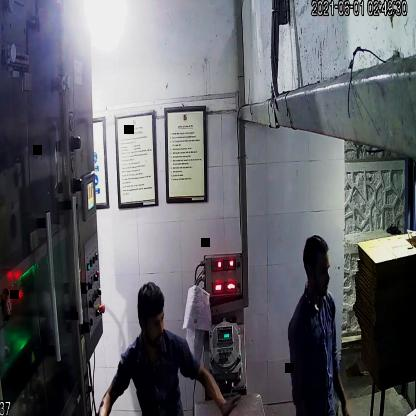no_goggles: (300, 258, 336, 286), (136, 314, 171, 334)
